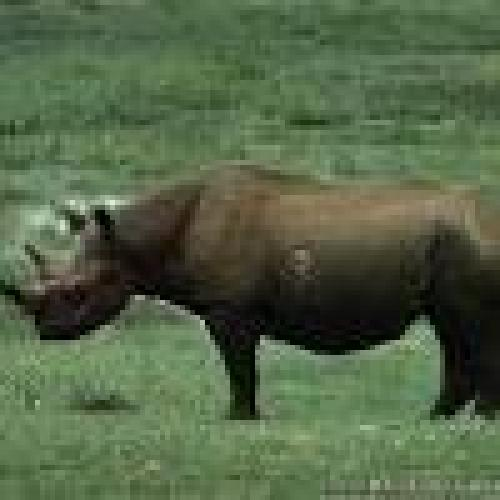rhino-endangered: (0, 161, 500, 420)
